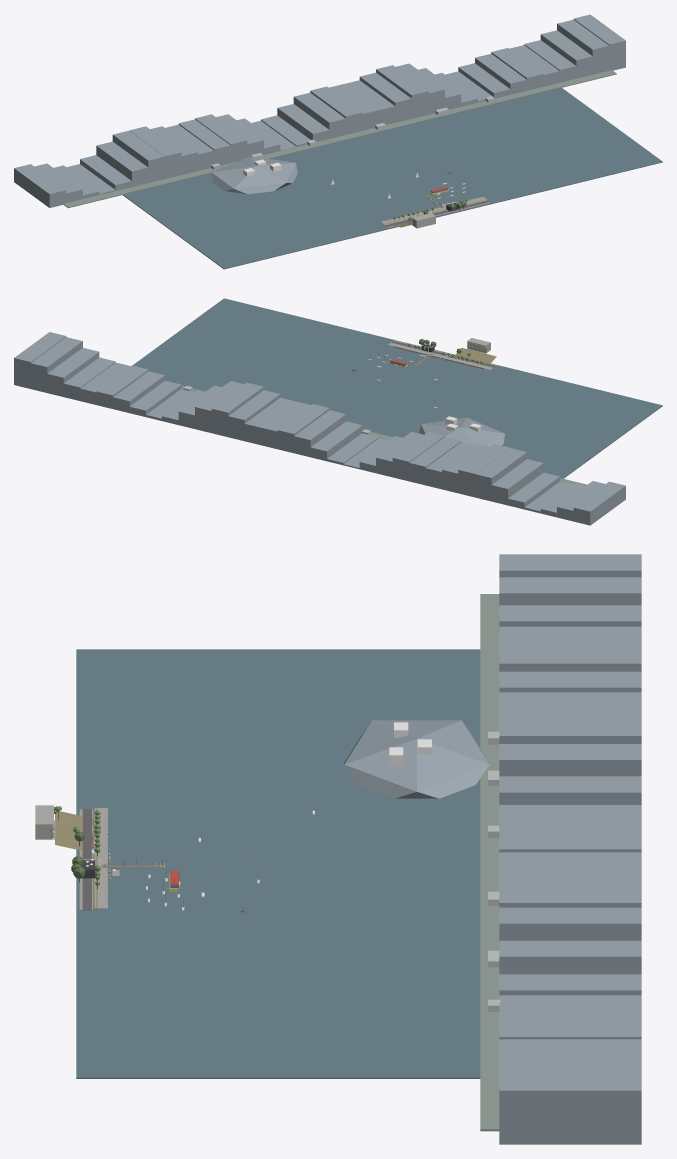
3 renders of one model, top to bottom at view 1: azimuth 30°, elevation 25°; view 2: azimuth 150°, elevation 25°; view 3: azimuth 270°, elevation 25°, orthographic. The views are drawn at different scales.
Parts seen in each view (by area): view 1: lake, far_shore, headland, hillseg_-420, hillseg_372, hillseg_-276, hillseg_-300, hillseg_108, hillseg_-12, hillseg_348, hillseg_396, hillseg_84 (+26 smaller); view 2: lake, headland, hillseg_-420, hillseg_372, hillseg_-276, hillseg_-300, hillseg_-12, hillseg_108, hillseg_348, hillseg_396, hillseg_84, hillseg_-252 (+26 smaller); view 3: lake, hillseg_396, far_shore, headland, hillseg_156, hillseg_132, hillseg_-132, hillseg_-108, hillseg_-396, hillseg_-156, hillseg_-252, hillseg_-420 (+20 smaller).
Boxes of the visible parts, box(x1,y1,x2,y2) form: lake: box(123, 88, 662, 269); far_shore: box(63, 70, 616, 208); headland: box(211, 156, 297, 194); hillseg_-420: box(14, 164, 66, 207); hillseg_372: box(557, 19, 609, 74); hillseg_-276: box(112, 130, 165, 182); hillseg_-300: box(96, 141, 148, 186); hillseg_108: box(376, 65, 428, 118); hillseg_-12: box(293, 92, 346, 138); hillseg_348: box(540, 30, 592, 78); hillseg_396: box(573, 14, 625, 70); hillseg_84: box(359, 72, 411, 122); lake: box(132, 298, 662, 478); headland: box(419, 417, 504, 446); hillseg_-420: box(573, 481, 625, 525); hillseg_372: box(30, 337, 82, 392); hillseg_-276: box(475, 448, 527, 501); hillseg_-300: box(491, 459, 543, 505); hillseg_-12: box(293, 410, 346, 456); hillseg_108: box(211, 382, 263, 436); hillseg_348: box(47, 348, 99, 396); hillseg_396: box(14, 332, 66, 388); hillseg_84: box(228, 390, 280, 441); hillseg_-252: box(458, 444, 510, 497); lake: box(76, 649, 480, 1078); hillseg_396: box(499, 1074, 641, 1144); far_shore: box(480, 594, 499, 1131); headland: box(344, 720, 489, 798); hillseg_156: box(499, 940, 641, 974); hillseg_132: box(499, 907, 641, 940); hillseg_-132: box(499, 744, 641, 776); hillseg_-108: box(499, 776, 641, 804); hillseg_-396: box(499, 577, 641, 605); hillseg_-156: box(499, 719, 641, 743); hillseg_-252: box(499, 647, 641, 671); hillseg_-420: box(499, 554, 641, 577).
Size of the model in its own units: 841 by 54.41 by 383.
